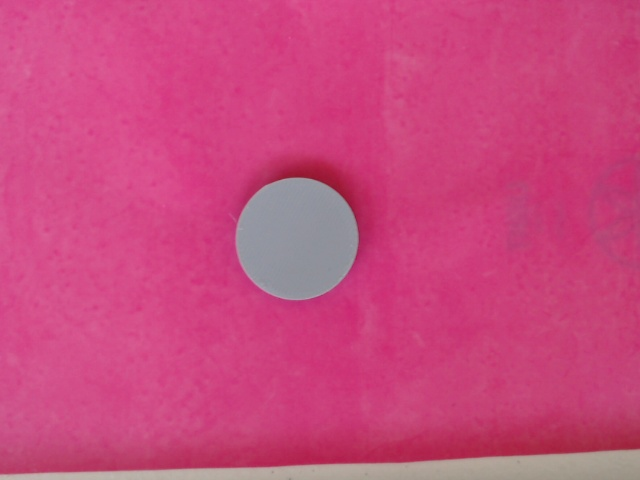NonDefective: (234, 176, 363, 304)
